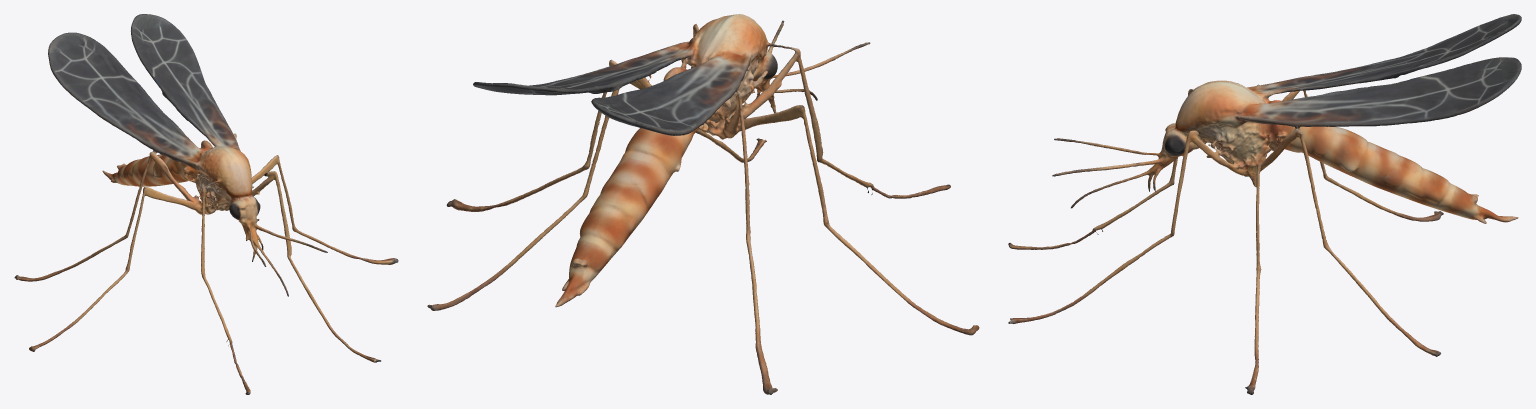
The model's file is Meshy_AI_A_photorealistic_3D_m_0425093033_texture.fbx.
3 views of the same model, side by side, from view 1: azimuth 30°, elevation 25°; view 2: azimuth 150°, elevation 25°; view 3: azimuth 270°, elevation 25° (orthographic). The views are drawn at different scales.
Parts seen in each view (by area): view 1: Mesh_0; view 2: Mesh_0; view 3: Mesh_0.
Boxes of the visible parts, x1,y1,x2,y2 form: Mesh_0: [14, 14, 398, 394]; Mesh_0: [427, 14, 979, 394]; Mesh_0: [1008, 14, 1521, 394].
Size of the model in its own units: 200 by 106 by 199.
Materials: 1 (1 with a texture image).
